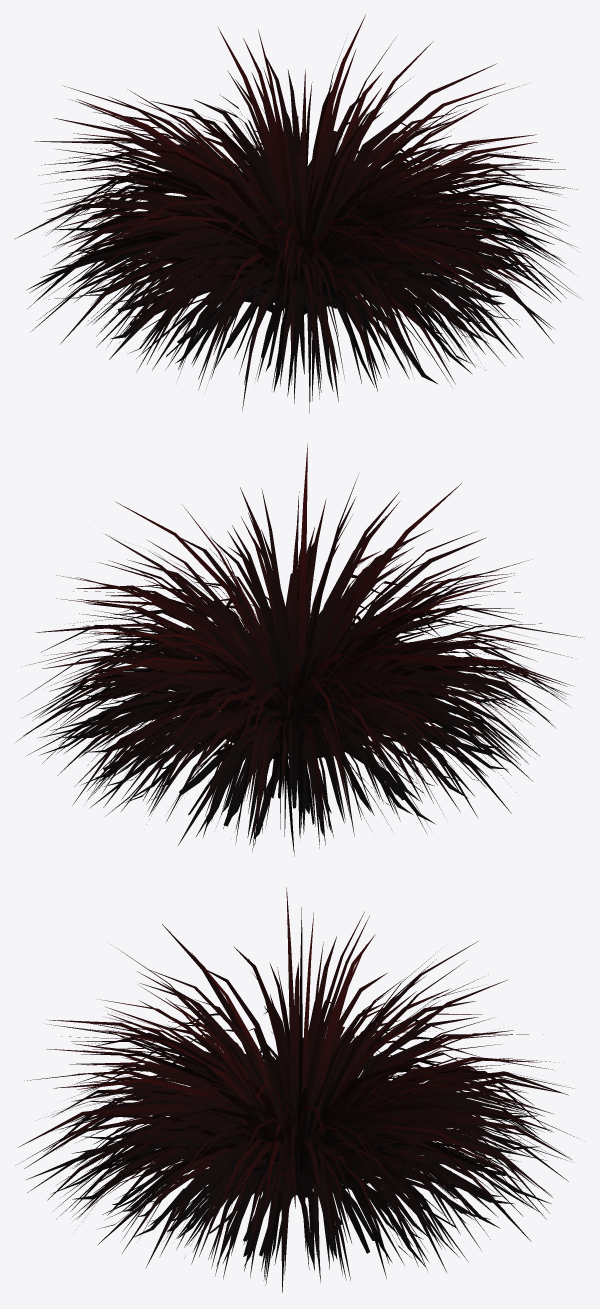
Rendered from shade_grass_v02.glb.
3 renders of one model, top to bottom at view 1: azimuth 30°, elevation 25°; view 2: azimuth 150°, elevation 25°; view 3: azimuth 270°, elevation 25°, orthographic. The views are drawn at different scales.
Parts seen in each view (by area): view 1: shade_grass_v02; view 2: shade_grass_v02; view 3: shade_grass_v02.
Part boxes in pixels (bbox=[...]): shade_grass_v02: bbox=[14, 14, 581, 413]; shade_grass_v02: bbox=[15, 444, 584, 856]; shade_grass_v02: bbox=[15, 887, 576, 1292].
Size of the model in its own units: 0.7737 by 0.308 by 0.7797.
1 material, 1 textured.
